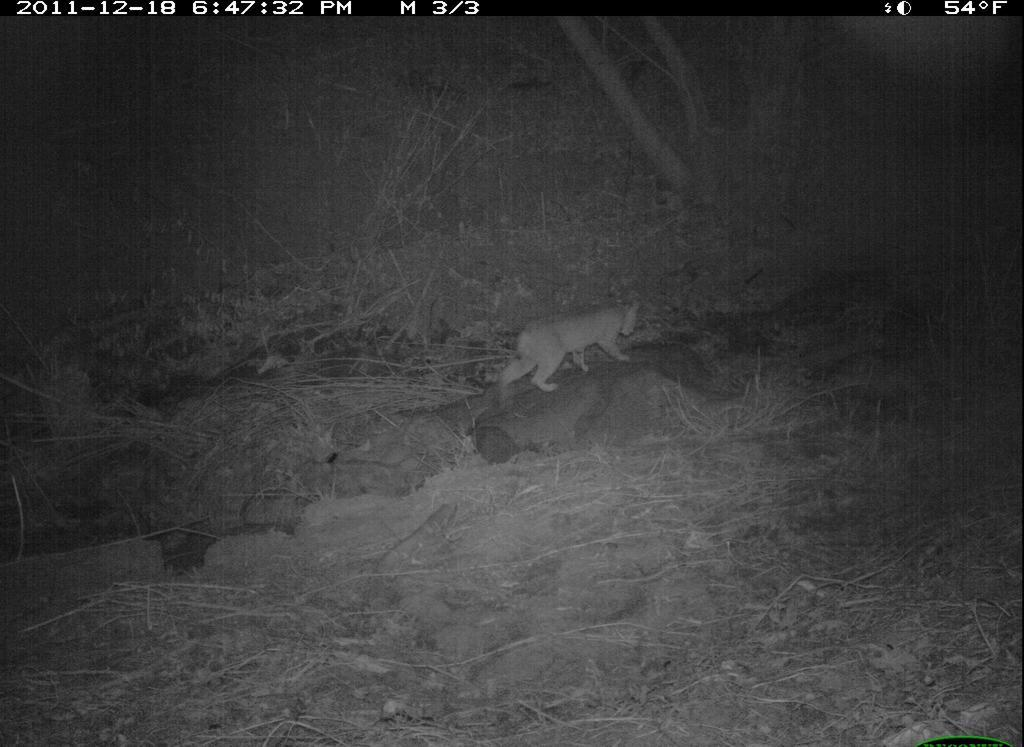bobcat: (491, 296, 647, 402)
